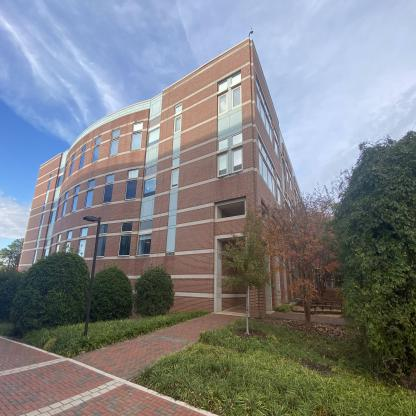EB-1: (25, 47, 322, 316)
